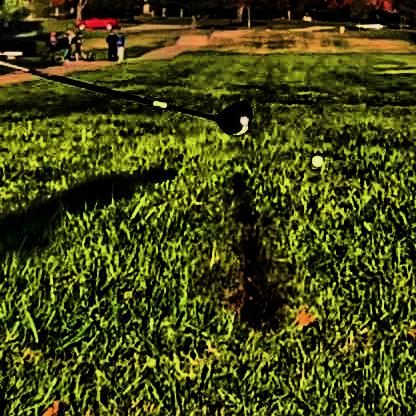golfball: (307, 151, 321, 165)
